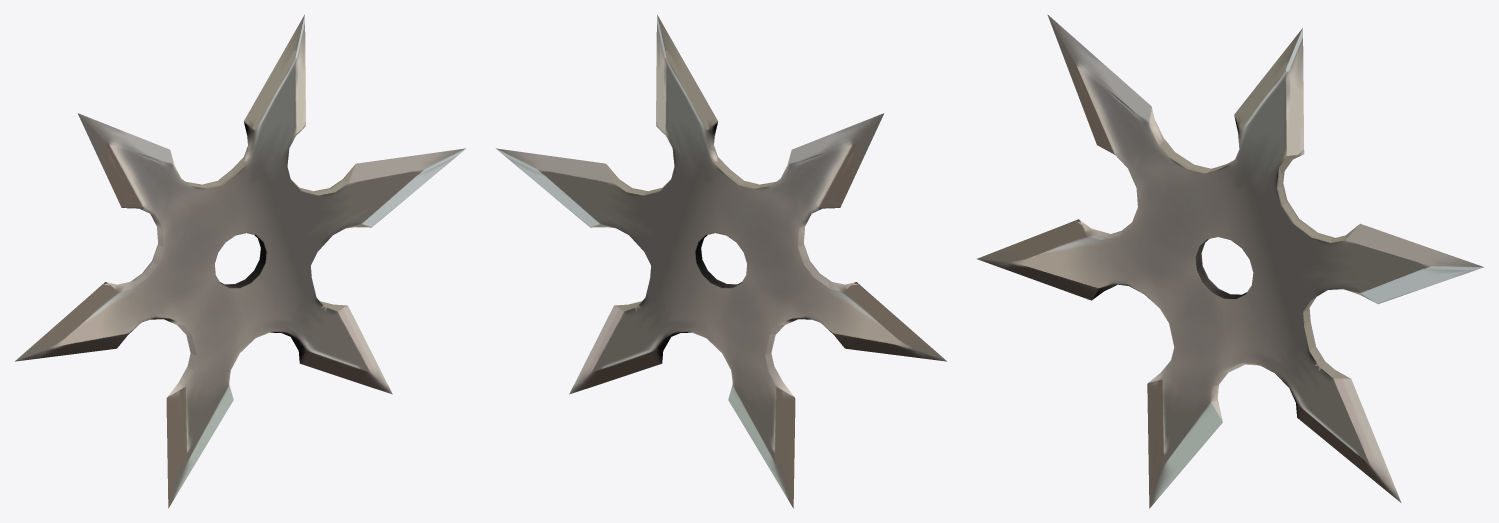
The model's file is shuriken ESTRELA.glb.
The picture shows the model from 3 angles, left to right: view 1: azimuth 30°, elevation 25°; view 2: azimuth 150°, elevation 25°; view 3: azimuth 330°, elevation 25°; orthographic projection. The views are drawn at different scales.
Visible parts, largest first — view 1: Plane; view 2: Plane; view 3: Plane.
Boxes of the visible parts, x1=… form: Plane: x1=15, y1=14, x2=465, y2=508; Plane: x1=496, y1=14, x2=946, y2=508; Plane: x1=977, y1=14, x2=1483, y2=508.
Size of the model in its own units: 22.08 by 21.54 by 0.4938.
1 material, 1 textured.
